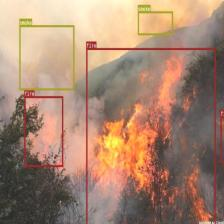fire: (85, 47, 215, 224), (24, 96, 63, 166)
smoke: (19, 25, 74, 90), (137, 11, 173, 35)
